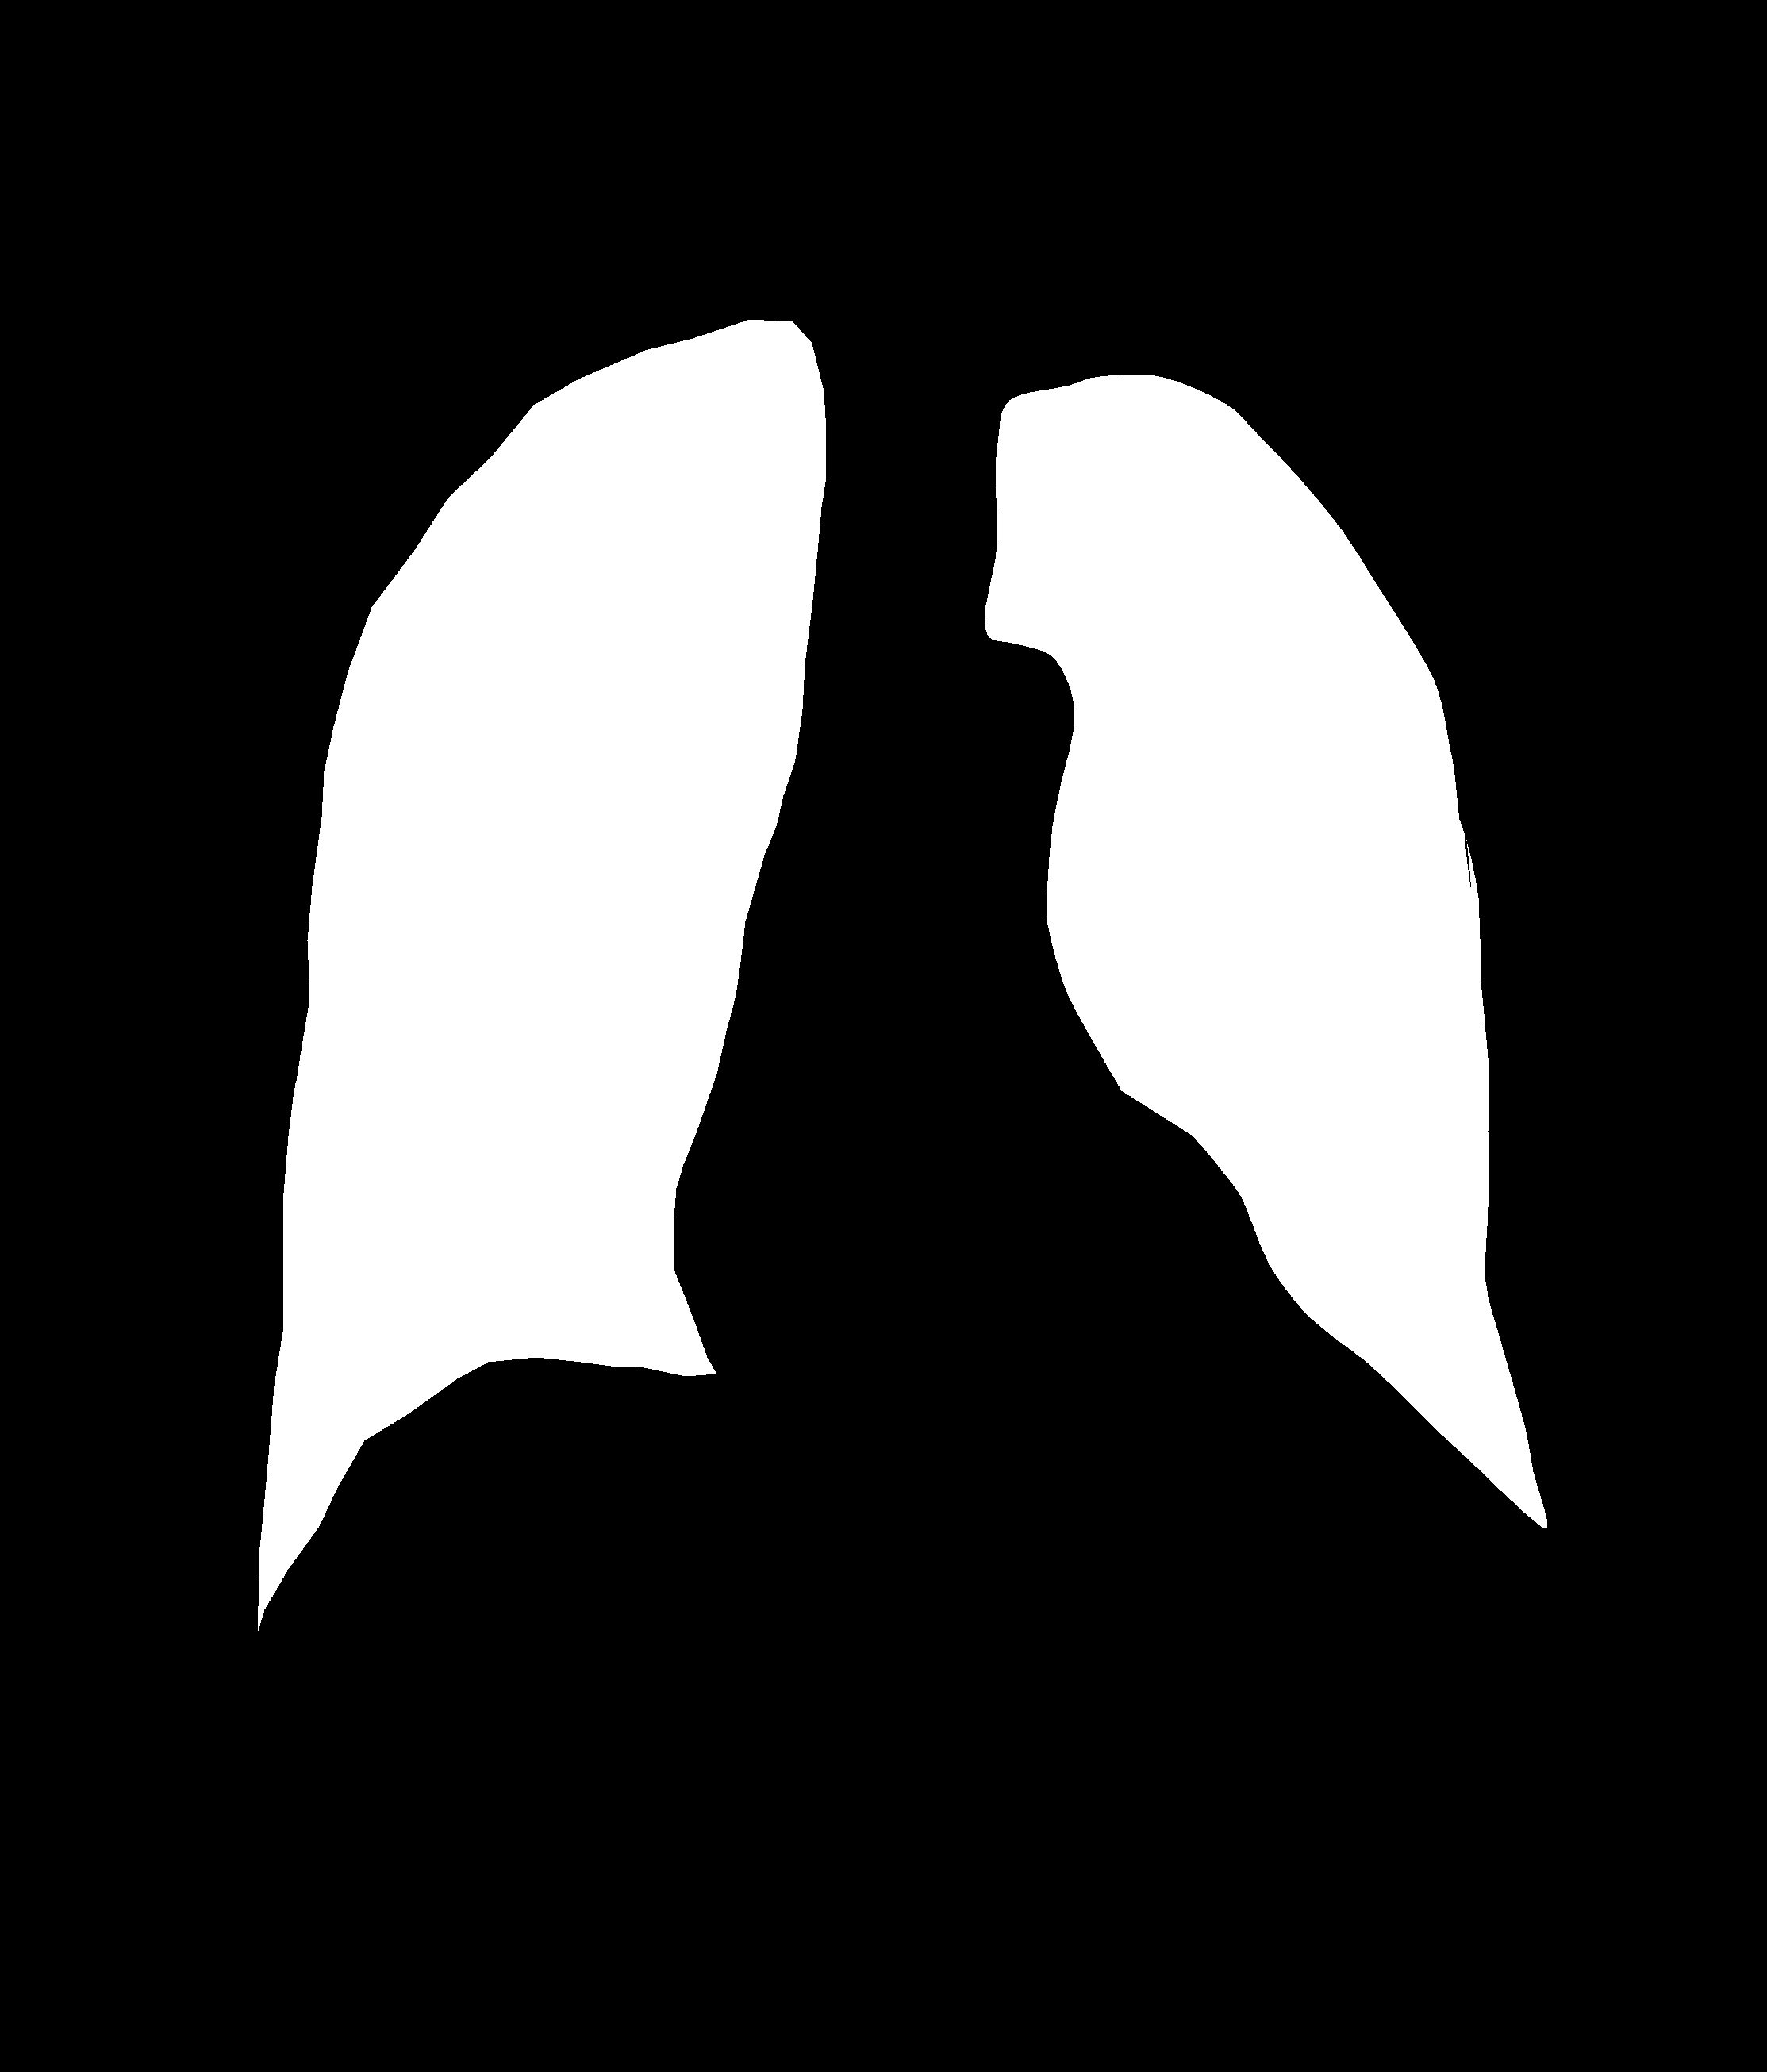heart: (670, 1061, 1301, 1436)
left_lung: (258, 319, 826, 1630)
right_lung: (985, 375, 1548, 1529)
